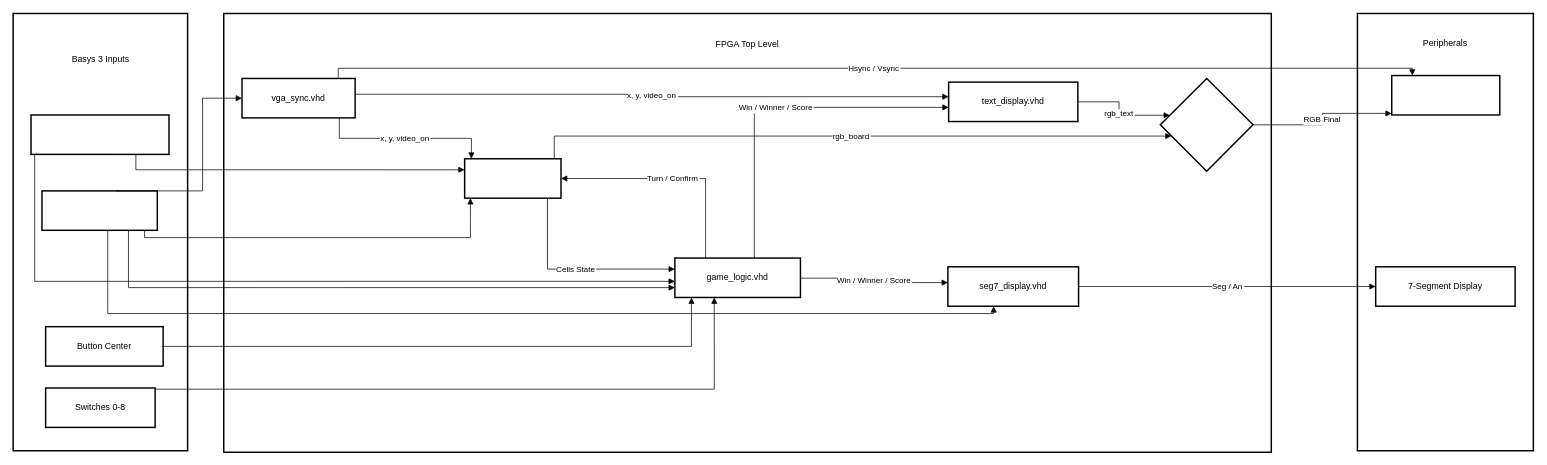
Some shapes in this 1547 by 465 pixel diagram are drawn without their labels. The shapes that lost their labels are listed below. From the top down, each one's centre as x and y in pixels, then its label:
[1445,94]: VGA Monitor
[99,134]: Button Up / Reset
[1206,124]: Video Mux
[512,178]: board.vhd
[99,210]: 100MHz Clock
